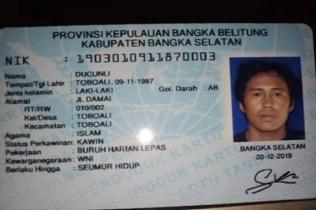ID-card: (1, 25, 314, 207)
